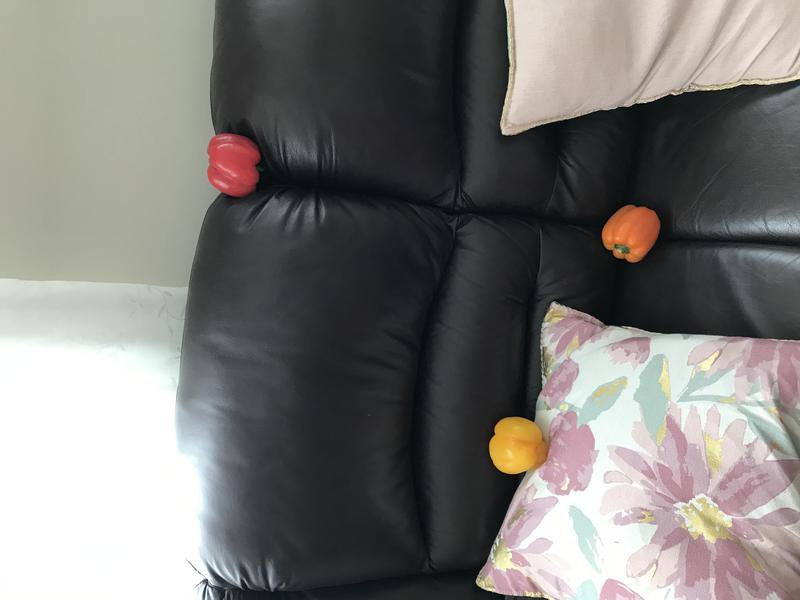orange_pepper: (597, 195, 664, 274)
red_pepper: (200, 128, 264, 198)
yellow_pepper: (483, 406, 559, 482)
